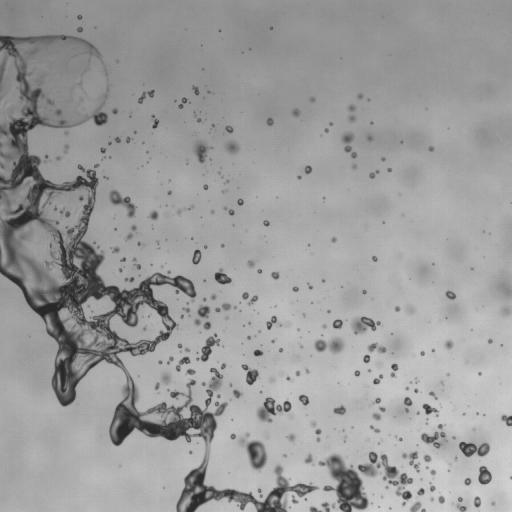droplet: (256, 397, 291, 422), (421, 424, 445, 448), (351, 316, 380, 334), (194, 140, 211, 162), (242, 364, 259, 385), (194, 305, 209, 325), (214, 268, 231, 284), (478, 466, 491, 484), (367, 342, 386, 353), (266, 316, 282, 329), (226, 141, 239, 153), (410, 501, 425, 511), (192, 249, 201, 264), (501, 414, 511, 426), (298, 394, 308, 405), (59, 208, 70, 217), (162, 372, 170, 384), (333, 406, 345, 414), (148, 210, 158, 219), (501, 306, 511, 315), (332, 319, 342, 328), (373, 375, 383, 384), (304, 454, 313, 464), (445, 291, 455, 299), (406, 305, 414, 314), (445, 340, 453, 349), (233, 389, 241, 398), (253, 349, 263, 356), (474, 496, 480, 507), (372, 412, 380, 420), (423, 454, 431, 462), (304, 165, 311, 174), (225, 125, 233, 132), (271, 272, 279, 279), (203, 321, 210, 329), (363, 354, 370, 362), (287, 434, 295, 441), (152, 119, 158, 128), (186, 369, 195, 375), (348, 104, 355, 111), (292, 109, 299, 116), (429, 391, 436, 398), (464, 478, 471, 485), (417, 488, 424, 495), (192, 86, 198, 94), (438, 495, 444, 503), (124, 277, 133, 282), (349, 115, 355, 122), (267, 118, 273, 125), (126, 233, 132, 240), (248, 260, 254, 267), (242, 292, 248, 299), (167, 356, 173, 363), (373, 397, 380, 403), (154, 382, 159, 390), (237, 199, 243, 205), (228, 209, 234, 215), (183, 307, 189, 313), (112, 247, 119, 252), (430, 484, 435, 491), (263, 220, 269, 225), (131, 225, 136, 231), (292, 286, 298, 291), (354, 370, 359, 376), (379, 407, 385, 412), (230, 433, 235, 439), (430, 469, 435, 475), (77, 27, 82, 32), (112, 108, 117, 113), (115, 137, 120, 142), (100, 148, 105, 153), (331, 237, 336, 242), (372, 256, 377, 261), (210, 294, 215, 299), (310, 421, 315, 426), (221, 363, 225, 369), (77, 15, 82, 19), (126, 137, 130, 142), (429, 146, 433, 151), (79, 195, 83, 200), (308, 284, 312, 289), (395, 306, 399, 311), (184, 348, 189, 352), (295, 371, 300, 375), (286, 376, 291, 380), (397, 437, 402, 441), (358, 94, 362, 98), (310, 97, 314, 101), (324, 128, 328, 132), (367, 136, 371, 140), (56, 156, 60, 160), (203, 185, 207, 189), (257, 269, 261, 273), (488, 339, 492, 343), (420, 351, 424, 355), (158, 360, 162, 364), (305, 369, 309, 373), (270, 377, 274, 381), (257, 489, 261, 493), (197, 118, 200, 122), (381, 157, 384, 161), (95, 164, 98, 168), (387, 168, 391, 171), (297, 175, 300, 179), (54, 206, 57, 210), (121, 258, 125, 261), (508, 289, 511, 293), (362, 290, 366, 293), (323, 324, 326, 328), (178, 344, 181, 348), (415, 378, 418, 382), (405, 386, 408, 390), (414, 389, 418, 392), (104, 95, 107, 98), (353, 165, 356, 168), (168, 191, 171, 194), (177, 210, 180, 213), (119, 268, 122, 271), (180, 315, 183, 318), (143, 326, 146, 329), (279, 348, 282, 351), (202, 382, 205, 385), (0, 95, 2, 99), (330, 122, 332, 125), (108, 142, 111, 144), (190, 206, 193, 208), (138, 242, 140, 245), (322, 279, 324, 282), (203, 298, 206, 300), (271, 340, 274, 342), (478, 372, 481, 374), (217, 395, 220, 397), (189, 451, 192, 453), (283, 455, 286, 457), (430, 498, 433, 500), (492, 502, 494, 505), (65, 132, 67, 134), (45, 155, 47, 157), (226, 180, 228, 182), (156, 241, 158, 243), (221, 244, 223, 246), (432, 349, 434, 351), (454, 458, 456, 460)
ligament: (0, 35, 318, 511), (309, 451, 412, 511), (238, 433, 267, 471), (109, 190, 136, 217), (196, 334, 219, 361), (314, 337, 344, 354), (459, 442, 490, 457), (342, 132, 356, 158), (402, 451, 419, 471), (176, 356, 190, 371), (138, 90, 154, 103), (422, 403, 438, 416), (456, 497, 466, 511), (215, 303, 231, 311), (390, 363, 398, 377), (404, 397, 412, 411), (179, 97, 187, 108), (248, 295, 257, 304), (133, 258, 140, 269), (315, 429, 321, 441), (369, 171, 378, 178), (370, 426, 379, 432), (64, 146, 68, 152), (510, 476, 511, 479)
